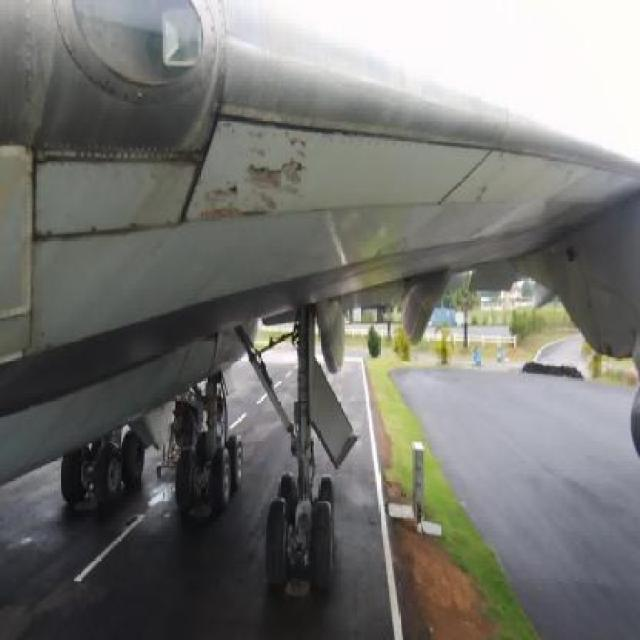Rust: (135, 256, 499, 347), (80, 259, 115, 347)
